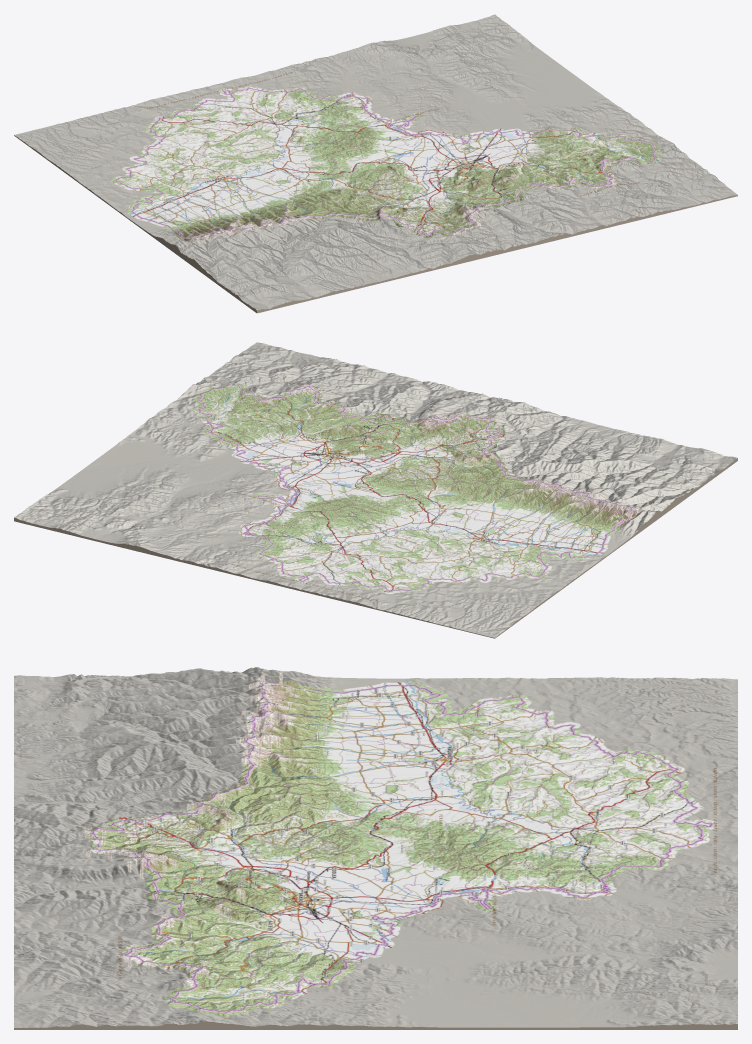
File: BV-overview.glb
3 renders of one model, top to bottom at view 1: azimuth 30°, elevation 25°; view 2: azimuth 150°, elevation 25°; view 3: azimuth 270°, elevation 25°, orthographic. The views are drawn at different scales.
Visible parts, largest first — view 1: BV-overview Brașov County (overview); view 2: BV-overview Brașov County (overview); view 3: BV-overview Brașov County (overview).
Boxes of the visible parts, box(x1,y1,x2,y2) form: BV-overview Brașov County (overview): box(14, 14, 737, 313); BV-overview Brașov County (overview): box(14, 342, 737, 638); BV-overview Brașov County (overview): box(14, 667, 737, 1029).
Size of the model in its own units: 120000 by 2314 by 105000.
7 materials, 1 textured.
